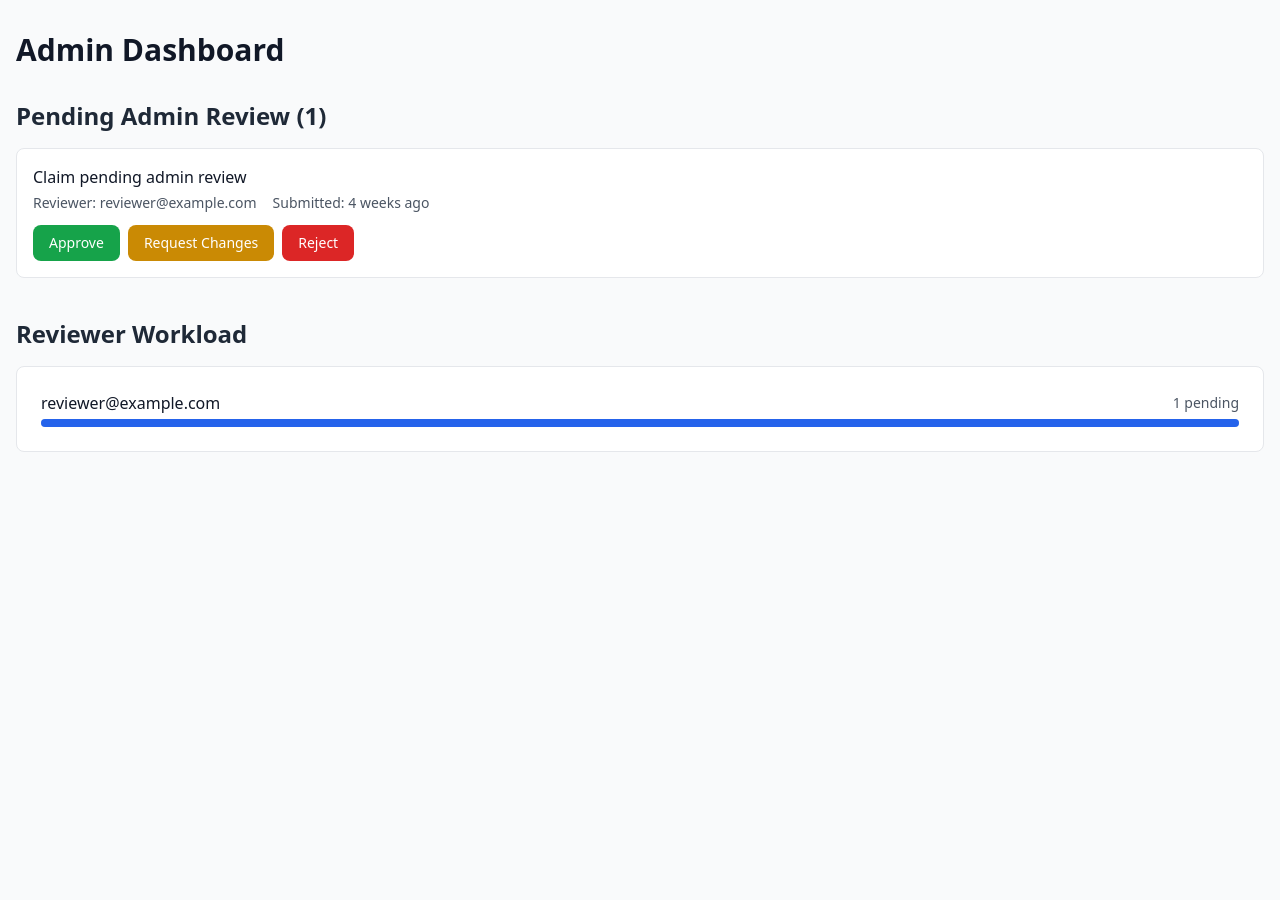
Test: Admin Dashboard - TDD › Action Modals › should open request changes modal when Request Changes button clicked
Note: Click the "Request Changes" button in the submissions section
Click the button "Request Changes": {"x": 201, "y": 243} [128,225,274,261]
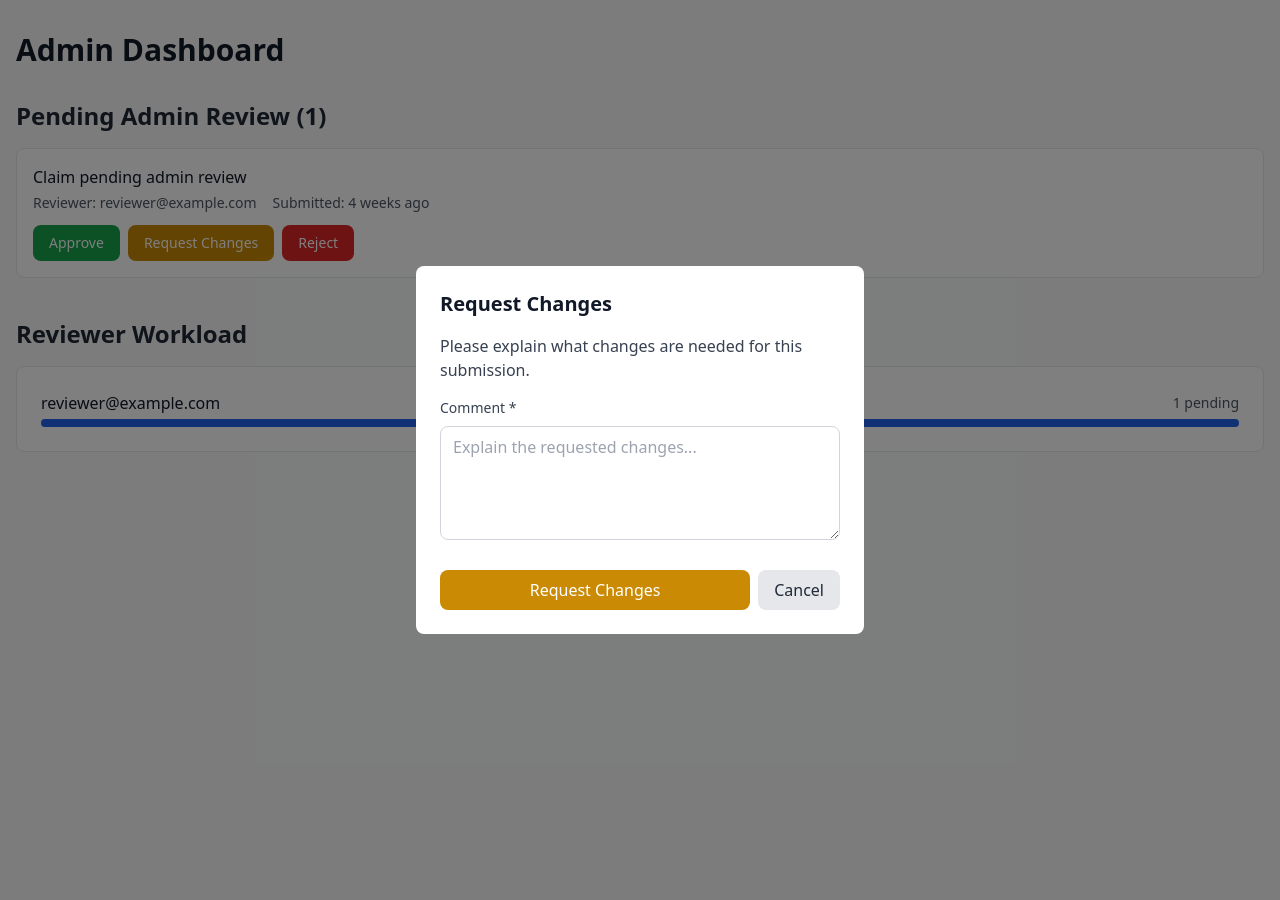
Check: the text "Please explain what changes are needed for this submission." is shown, box [440,334,840,382]
Check: the text box labelled "Comment *" is shown, box [440,426,840,540]
